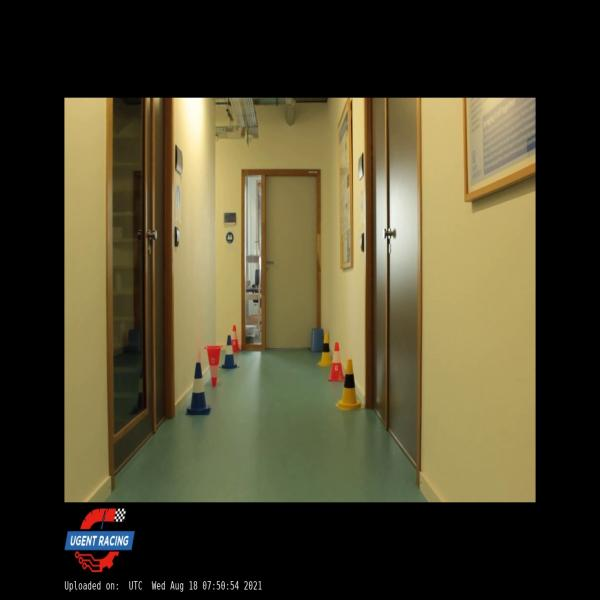blue_cone: (185, 362, 213, 415), (219, 335, 240, 370)
orange_cone: (328, 342, 345, 381), (231, 325, 241, 352)
yellow_cone: (336, 359, 364, 410), (316, 332, 332, 366)
